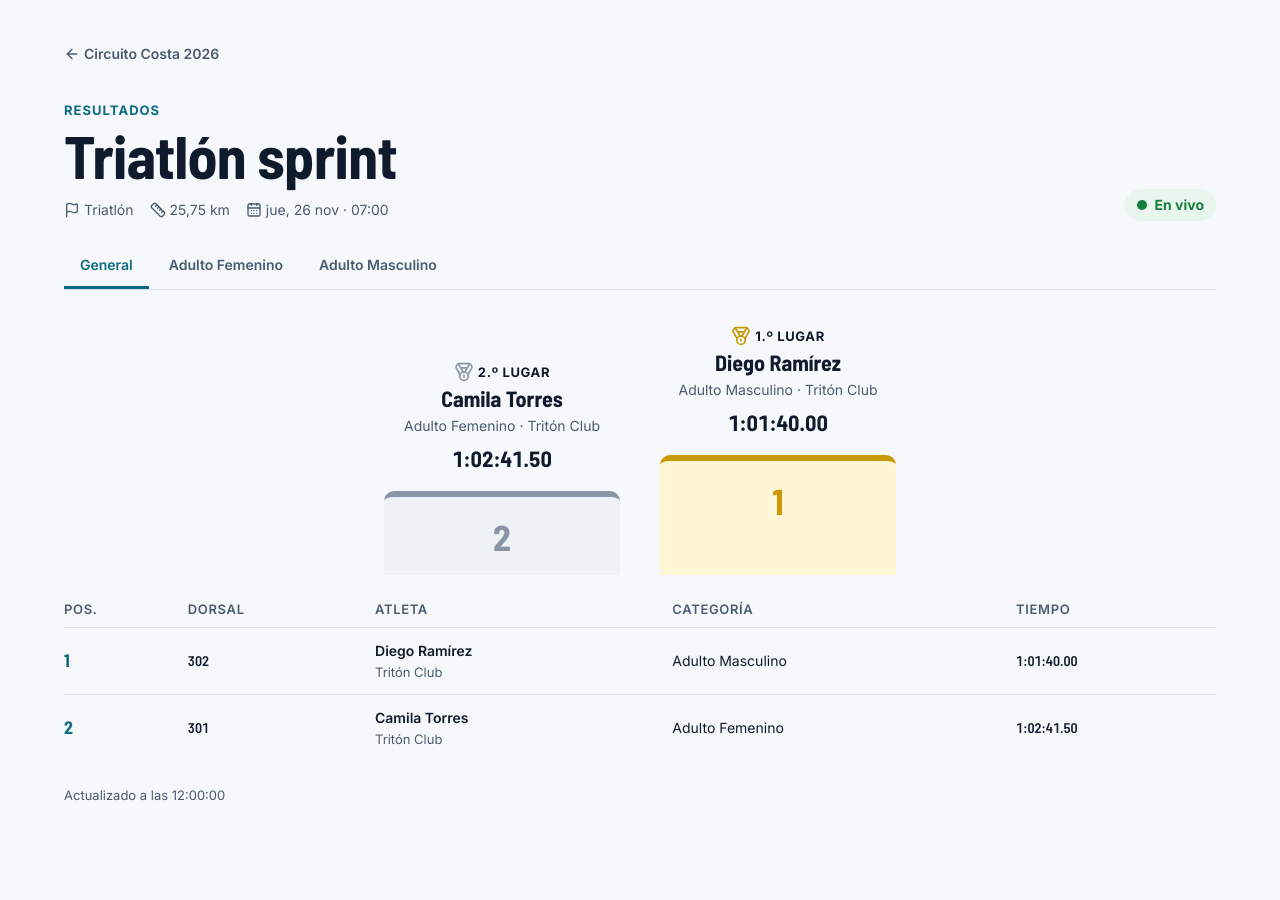
Scenario: ResultadosPage › al elegir una categoría muestra solo su clasificación
expect the heading "Triatlón sprint" is shown: met, box [64, 124, 397, 187]
Click the tab "Adulto Femenino" at (226, 267), box [153, 245, 299, 289]
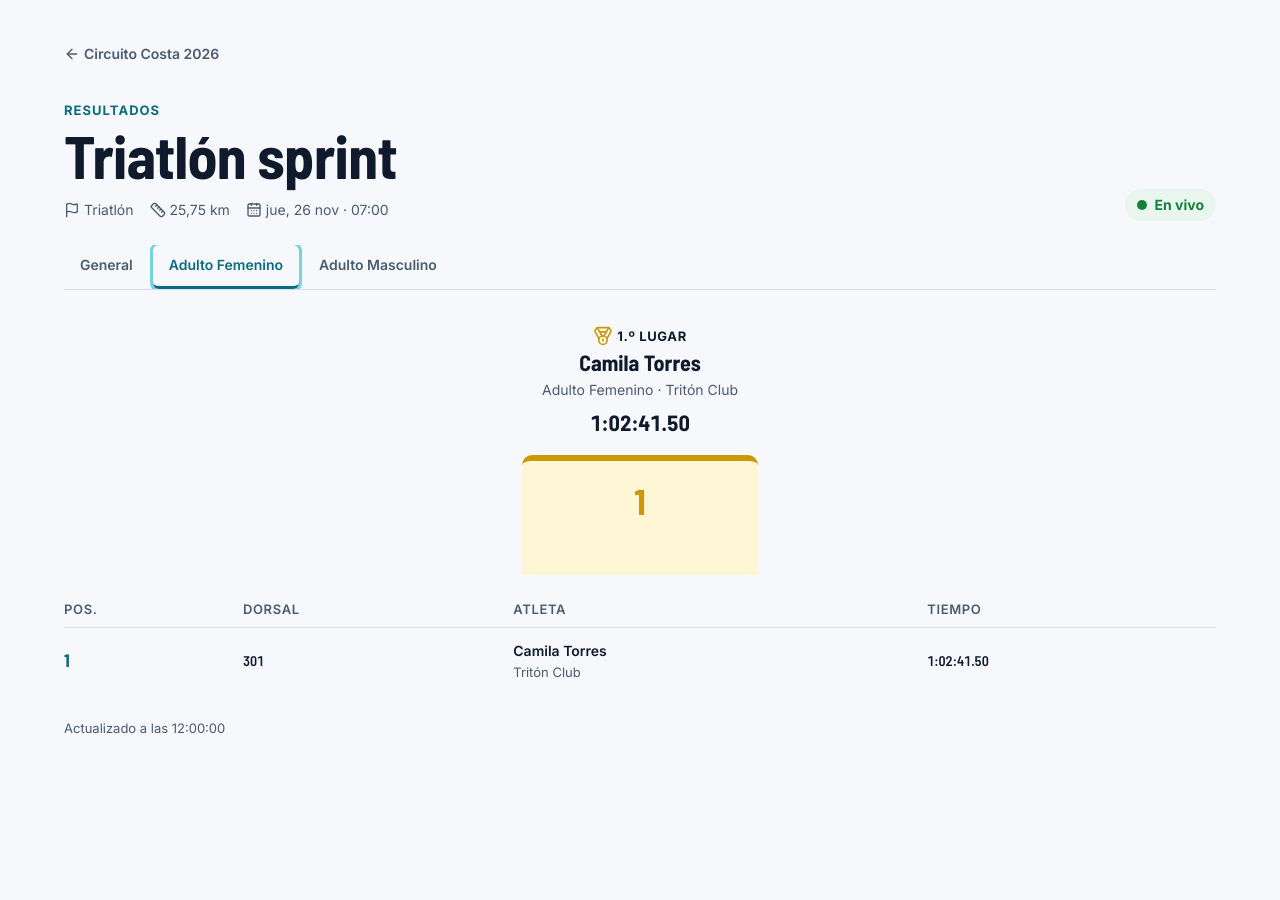
expect the text "Camila Torres" in the row of "301" is shown: met, box [513, 642, 607, 659]
expect the text "Diego Ramírez" is gone: met
